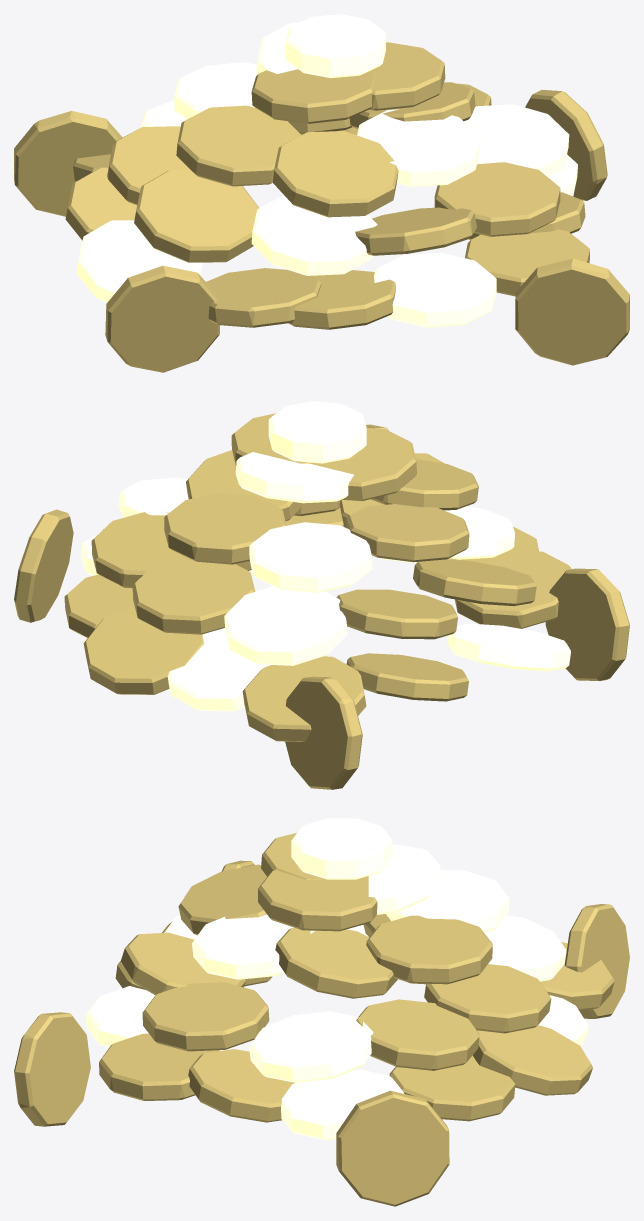
Rendered from dgn_treasure_gold.glb.
3 renders of one model, top to bottom at view 1: azimuth 30°, elevation 25°; view 2: azimuth 150°, elevation 25°; view 3: azimuth 270°, elevation 25°, orthographic. The views are drawn at different scales.
Visible parts, largest first — view 1: dgn_treasure_gold; view 2: dgn_treasure_gold; view 3: dgn_treasure_gold.
Boxes of the visible parts, <box> form: dgn_treasure_gold: <box>14,14,629,372</box>; dgn_treasure_gold: <box>14,401,629,789</box>; dgn_treasure_gold: <box>14,818,629,1206</box>.
Size of the model in its own units: 0.7293 by 0.3146 by 0.7236.
